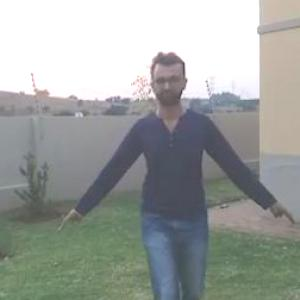land: (83, 59, 273, 299)
